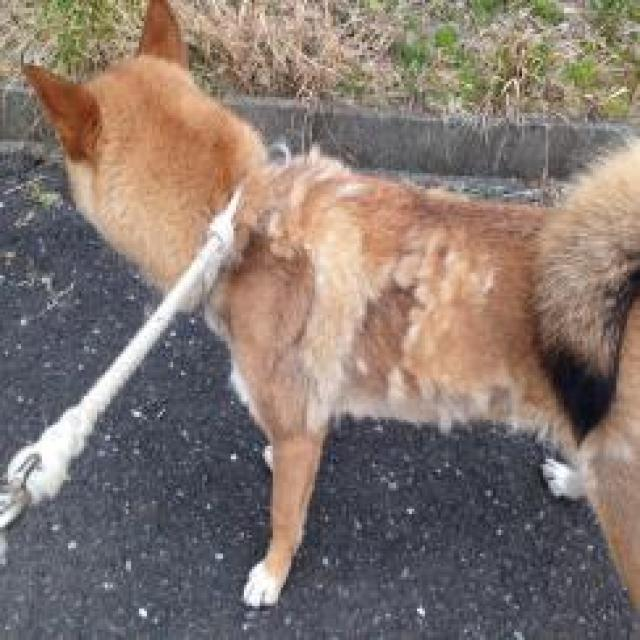fungal infection: (384, 230, 496, 376), (344, 355, 541, 434), (247, 212, 322, 346)
